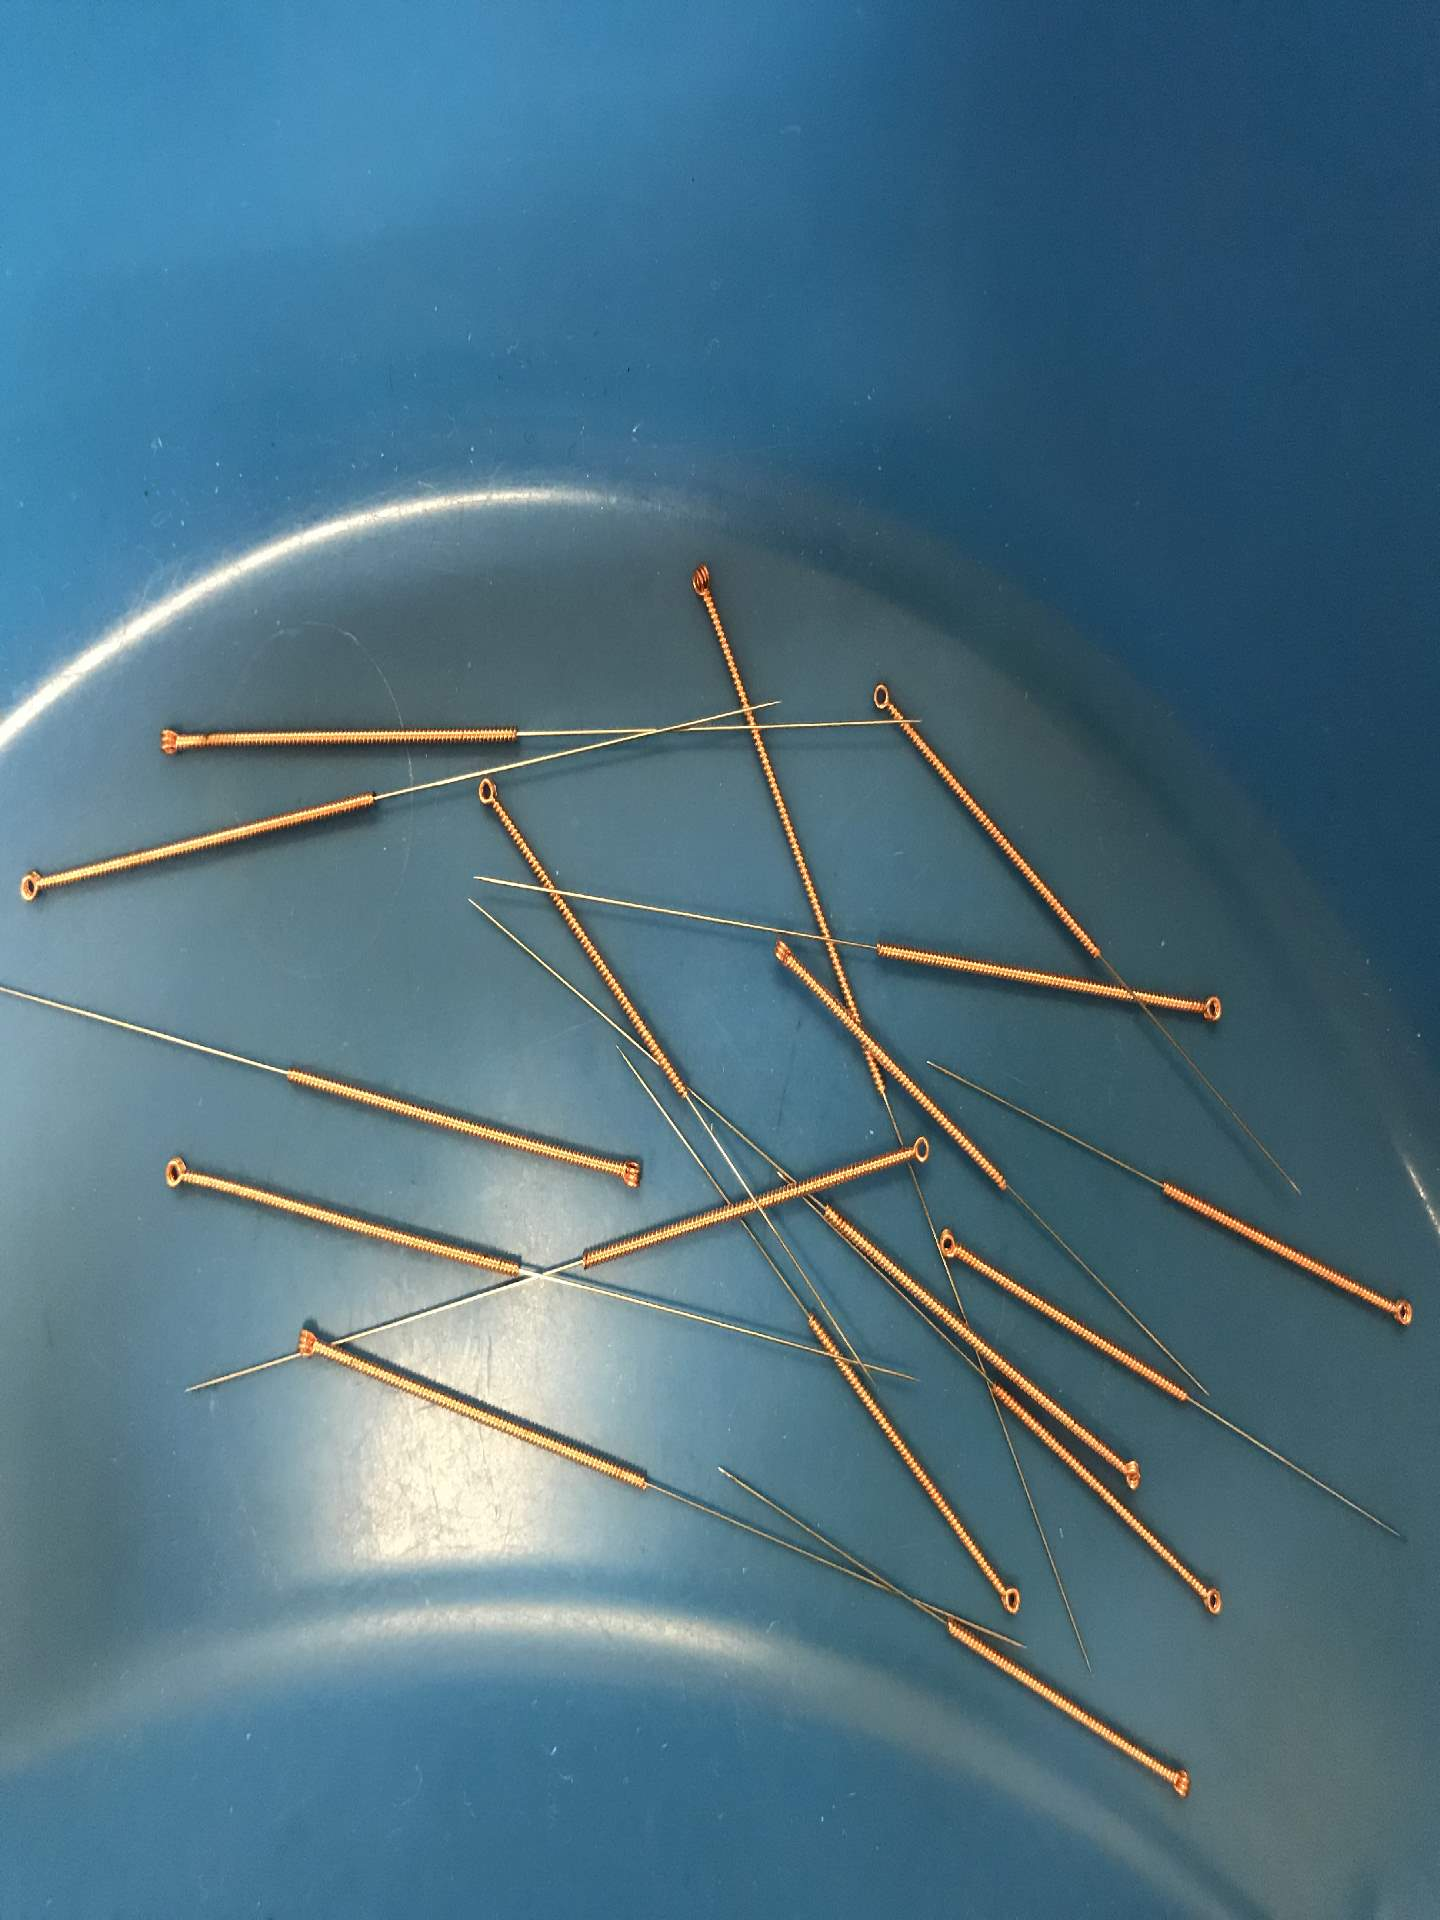needle: (596, 1138, 653, 1199), (144, 711, 198, 770), (151, 1144, 204, 1205), (9, 856, 61, 915), (283, 1315, 336, 1370), (678, 549, 722, 612), (1184, 983, 1236, 1036), (1186, 1574, 1234, 1628), (1376, 1285, 1423, 1339), (988, 1572, 1035, 1627), (466, 768, 510, 822), (758, 931, 806, 980), (1156, 1757, 1203, 1807), (927, 1223, 973, 1271), (1107, 1448, 1153, 1495), (895, 1128, 939, 1175), (867, 676, 906, 723)
